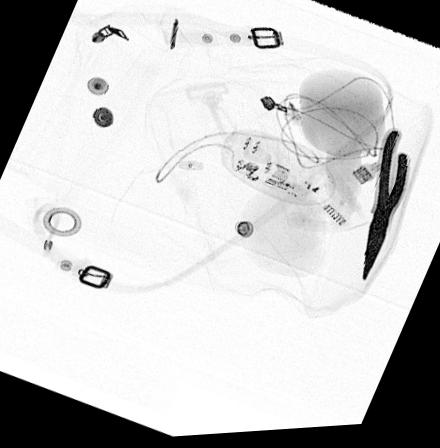Pliers: (357, 130, 410, 289)
